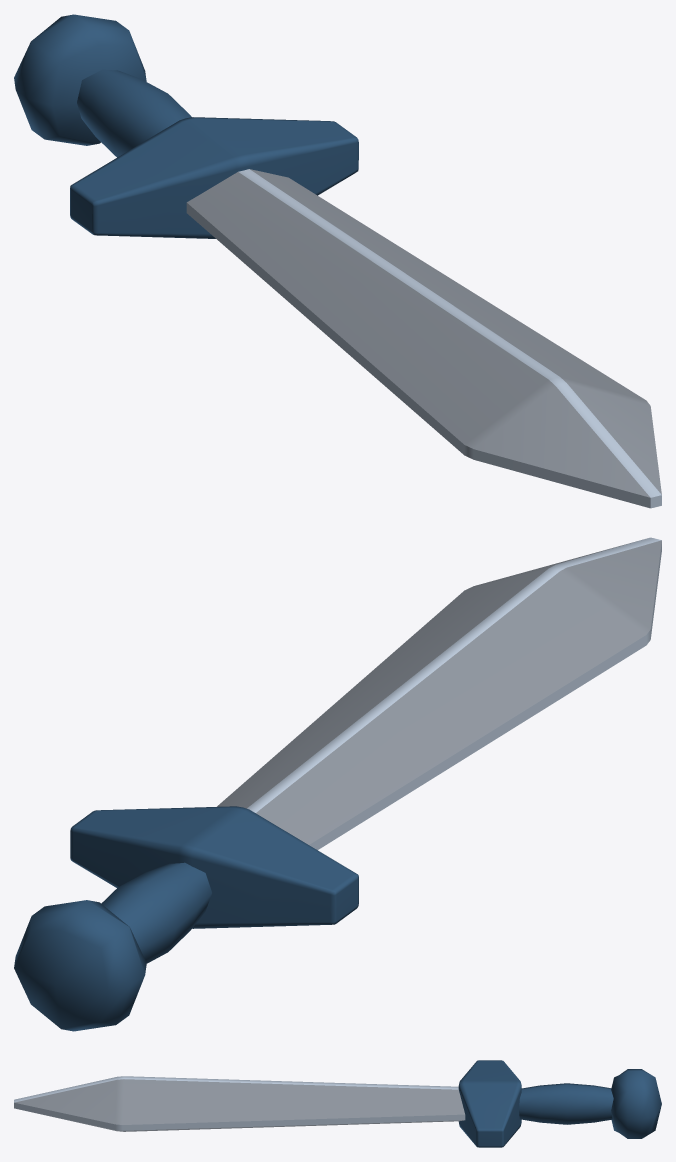
Rendered from Sword.fbx.
The picture shows the model from 3 angles, top to bottom: view 1: azimuth 30°, elevation 25°; view 2: azimuth 150°, elevation 25°; view 3: azimuth 270°, elevation 25°; orthographic projection. The views are drawn at different scales.
Parts seen in each view (by area): view 1: Sword; view 2: Sword; view 3: Sword.
Part boxes in pixels (x1,y1,x2,y2): Sword: (14, 14, 661, 508); Sword: (14, 537, 661, 1031); Sword: (14, 1060, 661, 1147).
Bounding box in the file's own units: 13.48 × 5.91 × 52.86.
